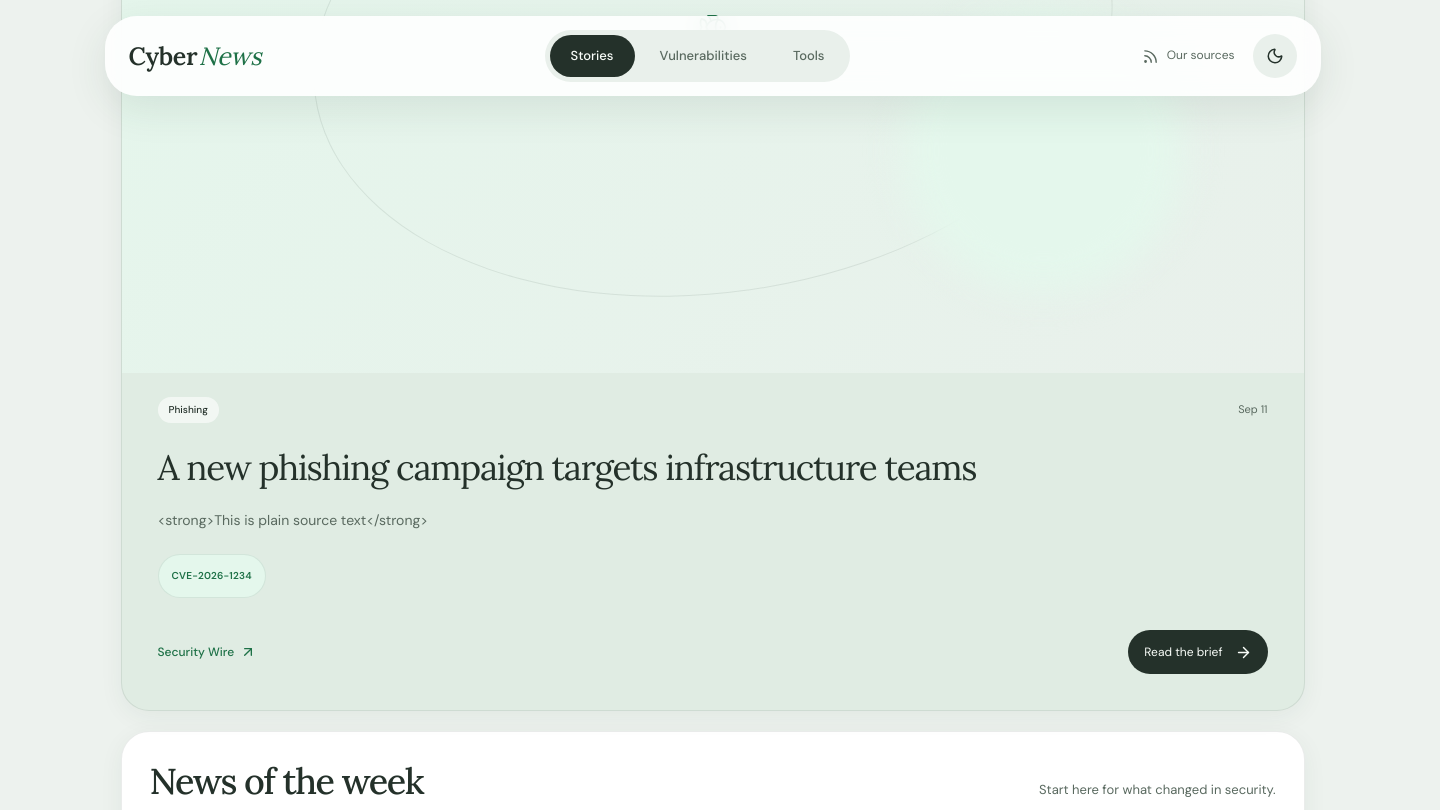
Test: CyberNews publication › follows a linked CVE and displays each original advisory
(page scrolled)
Click the button "A new phishing campaign targets infrastructure teams" at (712, 468), box x1=158 y1=445 x2=1268 y2=490
(page scrolled)
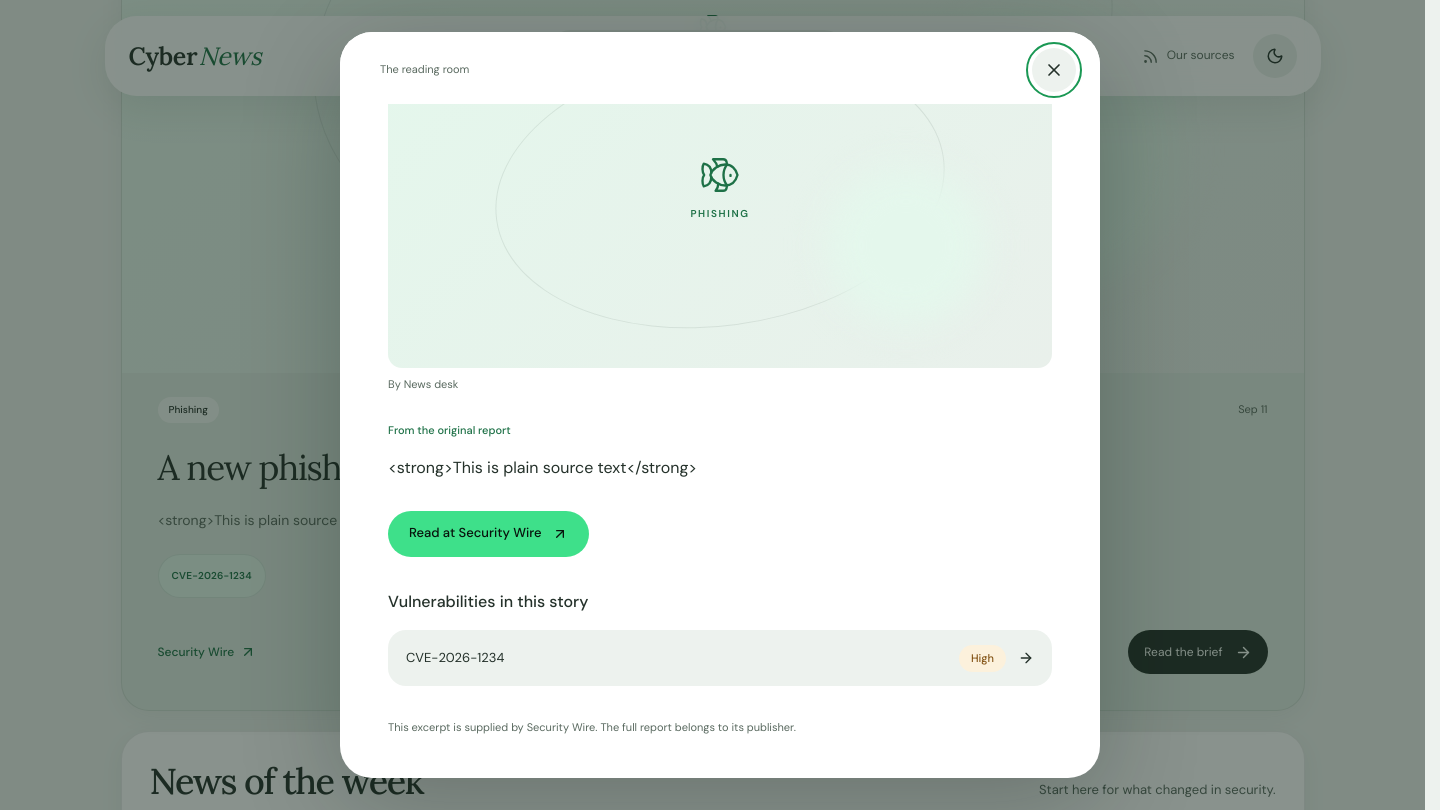
Click the button "CVE-2026-1234 High" at (455, 657), box x1=388 y1=630 x2=1052 y2=686
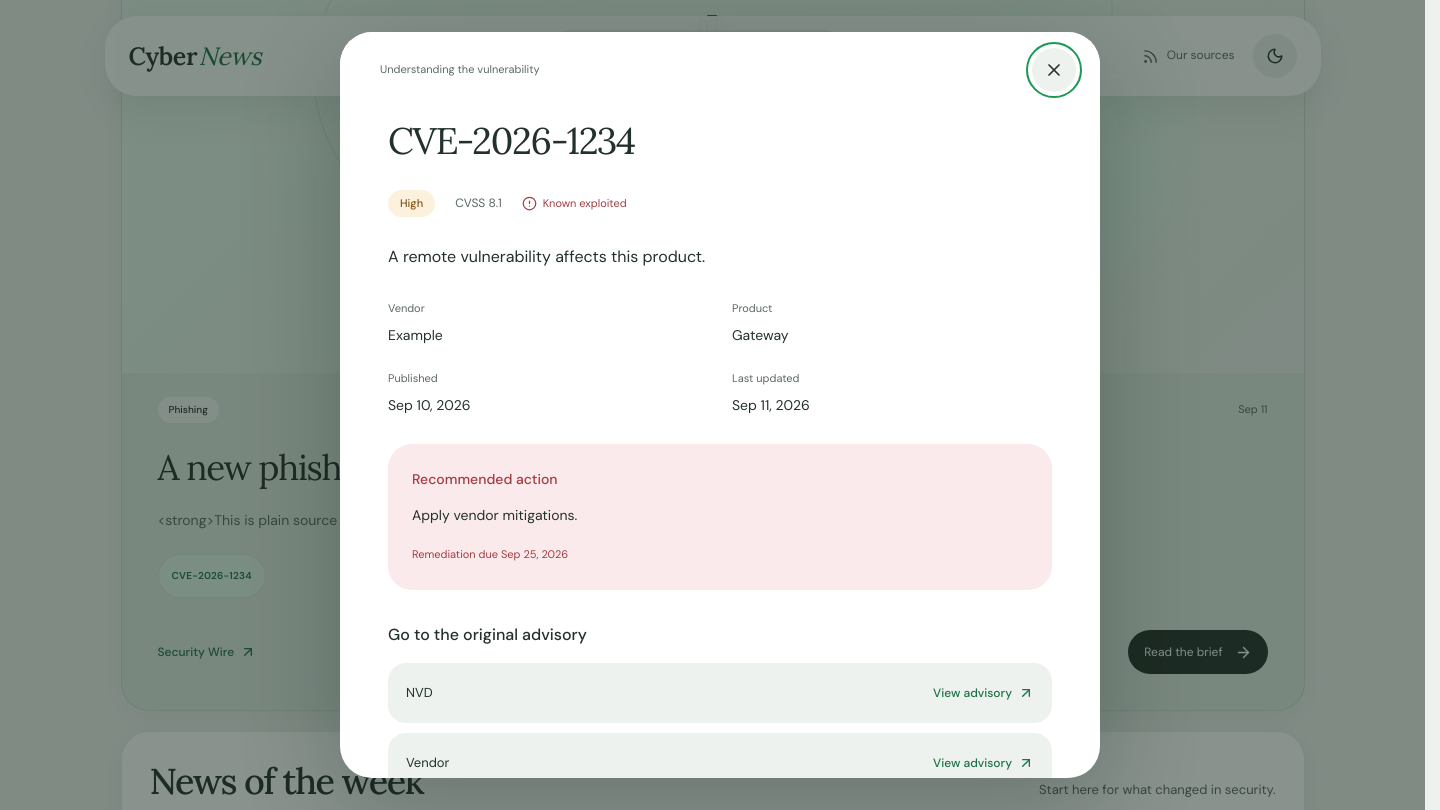
Check: the text "Apply vendor mitigations." is shown, box x1=412 y1=506 x2=577 y2=524
Check: the number of links "View advisory" is 2, box x1=933 y1=684 x2=1098 y2=710; x1=933 y1=754 x2=1098 y2=778
